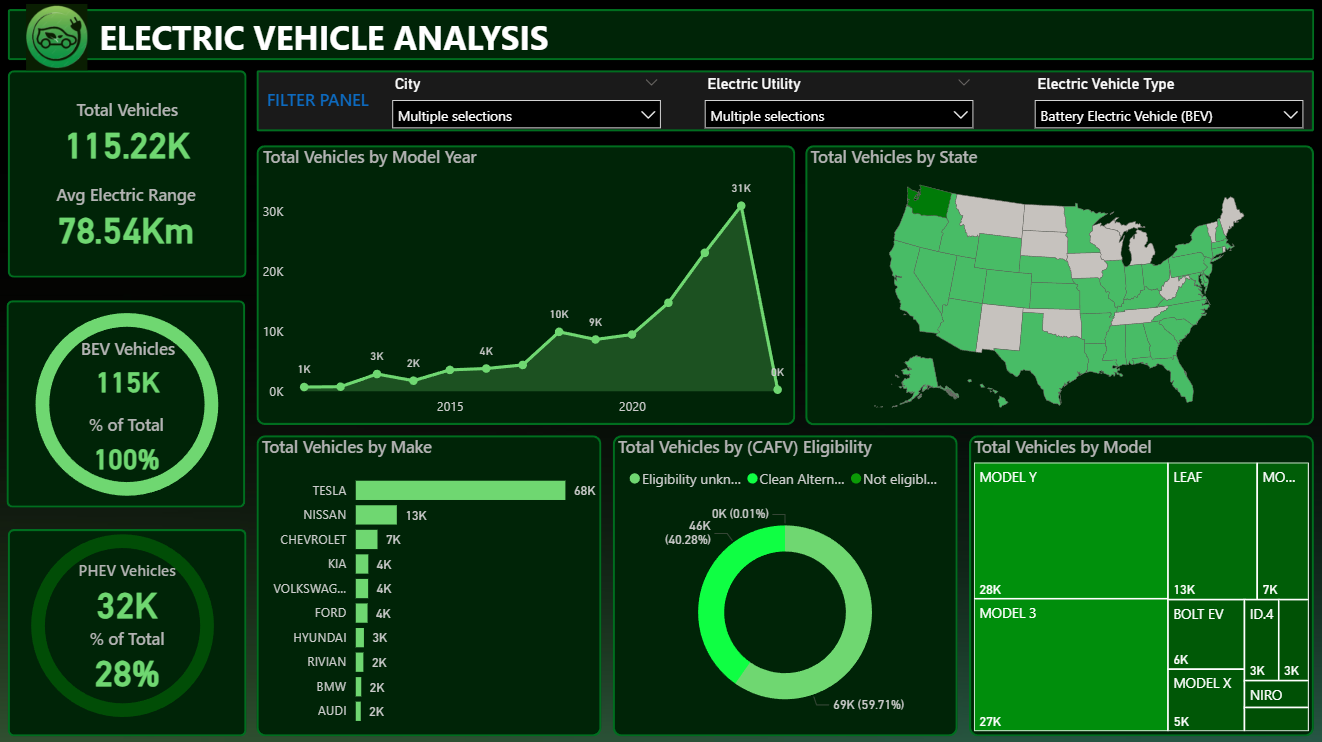

The dashboard page shown, as its layout file describes it:
{"tool":"powerbi","page":{"name":"dashboard","canvas":[1280,720],"ordinal":0},"visuals":[{"type":"card","title":"PHEV Vehicles","fields":{"Values":["Electric_Vehicle_Population_Data.PHEV Vehicles"]},"box":[43.4,540.5,160.5,65.1],"z":0,"group":"g1"},{"type":"shape","box":[8.2,9.6,1261.1,49.4],"z":0},{"type":"card","title":"% of Total","fields":{"Values":["Electric_Vehicle_Population_Data.% of PHEV"]},"box":[43.4,605.6,160.5,65.1],"z":1000,"group":"g1"},{"type":"slicer","fields":{"Values":["Electric_Vehicle_Population_Data.City"]},"box":[435.3,79.6,134.1,30.2],"z":1000},{"type":"textbox","box":[91.7,9.7,698.5,59.1],"z":2000},{"type":"textbox","box":[388.5,73.6,46.8,41],"z":3000},{"type":"shape","box":[8.2,68.6,230.5,200.3],"z":4000},{"type":"card","title":"Total Vehicles","fields":{"Values":["Electric_Vehicle_Population_Data.Total Vehicles"]},"box":[8.4,95.3,230.4,65.1],"z":5000},{"type":"card","title":"Avg Electric Range","fields":{"Values":["Electric_Vehicle_Population_Data.Avg Range"]},"box":[7.2,177.3,230.4,65.1],"z":6000},{"type":"shape","box":[7.2,290.8,230.4,200.3],"z":7000},{"type":"shape","box":[8.4,511.5,230.4,200.3],"z":8000},{"type":"card","title":"BEV Vehicles","fields":{"Values":["Electric_Vehicle_Population_Data.BEV Vehicles"]},"box":[30.2,325.7,188.2,65.1],"z":9000},{"type":"card","title":"% of Total","fields":{"Values":["Electric_Vehicle_Population_Data.% of BEV"]},"box":[29,399.3,188.2,65.1],"z":10000},{"type":"donutChart","fields":{"Category":["Electric_Vehicle_Population_Data.Electric Vehicle Type"],"Y":["Electric_Vehicle_Population_Data.Total Vehicles"]},"box":[8.4,276.3,230.4,230.4],"z":11000},{"type":"donutChart","fields":{"Category":["Electric_Vehicle_Population_Data.Electric Vehicle Type"],"Y":["Electric_Vehicle_Population_Data.Total Vehicles"]},"box":[0,489.8,238.9,230.4],"z":12000},{"type":"shape","box":[248.5,68.8,1020.6,59.1],"z":13000},{"type":"shape","box":[248.5,141.2,520,270],"z":14000},{"type":"areaChart","fields":{"Category":["Electric_Vehicle_Population_Data.Model Year"],"Y":["Electric_Vehicle_Population_Data.Total Vehicles"]},"box":[249.7,141.2,520,270.2],"z":15000},{"type":"shape","box":[778.2,141.2,491,270.2],"z":16000},{"type":"shapeMap","fields":{"Category":["Electric_Vehicle_Population_Data.State"],"Value":["Electric_Vehicle_Population_Data.Total Vehicles"]},"box":[778.2,141.2,491,270.2],"z":17000},{"type":"group","id":"g1","title":"Group 1","box":[43.4,540.5,160.5,130.3],"z":18000},{"type":"shape","box":[248.5,421,333,290.8],"z":19000},{"type":"barChart","fields":{"Category":["Electric_Vehicle_Population_Data.Make"],"Y":["Electric_Vehicle_Population_Data.Total Vehicles"]},"box":[248.5,421,333,290.8],"z":20000},{"type":"shape","box":[936.2,421,333,290.8],"z":21000},{"type":"shape","box":[592.4,421,333,290.8],"z":22000},{"type":"donutChart","title":"Total Vehicles by (CAFV) Eligibility","fields":{"Category":["Electric_Vehicle_Population_Data.Clean Alternative Fuel Vehicle (CAFV) Eligibility"],"Y":["Electric_Vehicle_Population_Data.Total Vehicles"]},"box":[592.4,421,333,290.8],"z":23000},{"type":"treemap","fields":{"Group":["Electric_Vehicle_Population_Data.Model"],"Values":["Electric_Vehicle_Population_Data.Total Vehicles"]},"box":[936.2,421,333,290.8],"z":24000},{"type":"textbox","box":[253.4,80.8,135.1,36.2],"z":25000},{"type":"image","box":[20.5,0,71.2,73.6],"z":26000},{"type":"slicer","fields":{"Values":["Electric_Vehicle_Population_Data.City"]},"box":[369.2,68.8,279.9,67.6],"z":27000},{"type":"slicer","fields":{"Values":["Electric_Vehicle_Population_Data.Electric Utility"]},"box":[670.8,68.8,279.9,67.6],"z":28000},{"type":"slicer","fields":{"Values":["Electric_Vehicle_Population_Data.Electric Vehicle Type"]},"box":[989.3,68.8,279.9,67.6],"z":29000}]}

Visuals, with their boxes in screenshot pixels (x1, y1, x2, y2), scaled from the page's 1280x720 canvas onto the 1322x742 screenshot:
"PHEV Vehicles" card: [45, 557, 211, 624]
shape: [8, 10, 1311, 61]
"% of Total" card: [45, 624, 211, 691]
slicer - Electric_Vehicle_Population_Data.City: [450, 82, 588, 113]
textbox: [95, 10, 816, 71]
textbox: [401, 76, 450, 118]
shape: [8, 71, 247, 277]
"Total Vehicles" card: [9, 98, 247, 165]
"Avg Electric Range" card: [7, 183, 245, 250]
shape: [7, 300, 245, 506]
shape: [9, 527, 247, 734]
"BEV Vehicles" card: [31, 336, 226, 403]
"% of Total" card: [30, 412, 224, 479]
donutChart - Electric_Vehicle_Population_Data.Electric Vehicle Type x Electric_Vehicle_Population_Data.Total Vehicles: [9, 285, 247, 522]
donutChart - Electric_Vehicle_Population_Data.Electric Vehicle Type x Electric_Vehicle_Population_Data.Total Vehicles: [0, 505, 247, 741]
shape: [257, 71, 1311, 132]
shape: [257, 146, 794, 424]
areaChart - Electric_Vehicle_Population_Data.Model Year x Electric_Vehicle_Population_Data.Total Vehicles: [258, 146, 795, 424]
shape: [804, 146, 1311, 424]
shapeMap - Electric_Vehicle_Population_Data.State x Electric_Vehicle_Population_Data.Total Vehicles: [804, 146, 1311, 424]
"Group 1" group: [45, 557, 211, 691]
shape: [257, 434, 601, 734]
barChart - Electric_Vehicle_Population_Data.Make x Electric_Vehicle_Population_Data.Total Vehicles: [257, 434, 601, 734]
shape: [967, 434, 1311, 734]
shape: [612, 434, 956, 734]
"Total Vehicles by (CAFV) Eligibility" donutChart: [612, 434, 956, 734]
treemap - Electric_Vehicle_Population_Data.Model x Electric_Vehicle_Population_Data.Total Vehicles: [967, 434, 1311, 734]
textbox: [262, 83, 401, 121]
image: [21, 0, 95, 76]
slicer - Electric_Vehicle_Population_Data.City: [381, 71, 670, 141]
slicer - Electric_Vehicle_Population_Data.Electric Utility: [693, 71, 982, 141]
slicer - Electric_Vehicle_Population_Data.Electric Vehicle Type: [1022, 71, 1311, 141]
